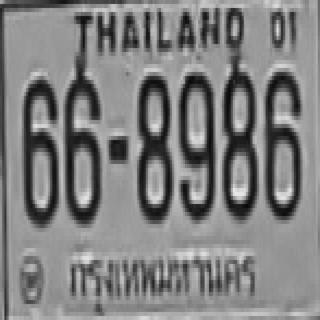N06: (63, 68, 100, 220), (264, 68, 300, 216), (22, 76, 57, 224)
N08: (135, 72, 170, 220), (222, 64, 255, 216)
N09: (176, 68, 213, 216)
P04: (61, 240, 266, 320)
